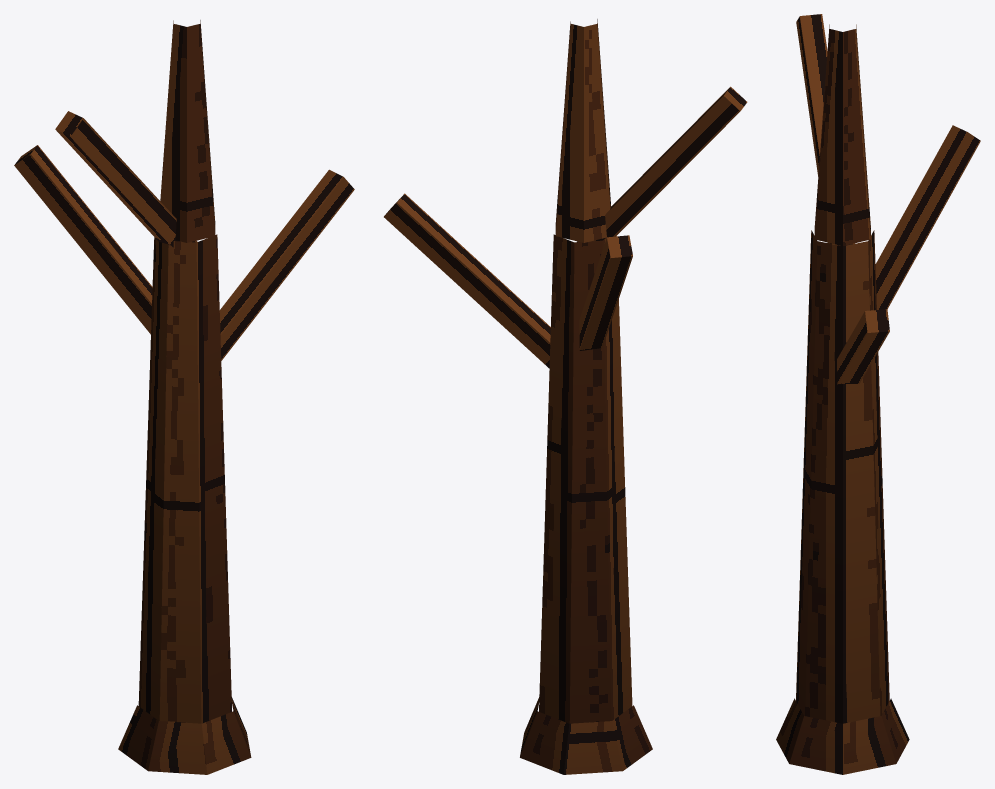
File: apple_2_trunk.glb
3 renders of one model, left to right at view 1: azimuth 30°, elevation 25°; view 2: azimuth 150°, elevation 25°; view 3: azimuth 270°, elevation 25°, orthographic.
Visible parts, largest first — view 1: apple_2_trunk; view 2: apple_2_trunk; view 3: apple_2_trunk.
Boxes of the visible parts, <box> form: apple_2_trunk: <box>14,20,354,774</box>; apple_2_trunk: <box>384,19,747,774</box>; apple_2_trunk: <box>776,14,980,774</box>.
Size of the model in its own units: 1.95 by 4.18 by 1.08.
Materials: 1 (1 with a texture image).
